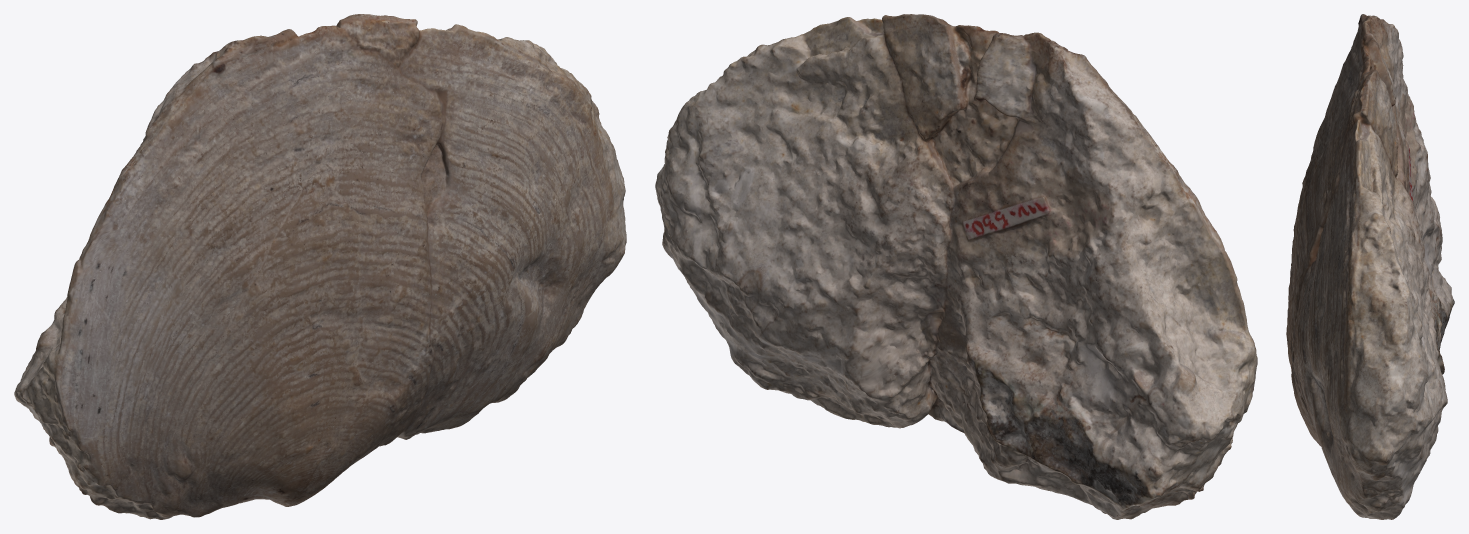
Rendered from EWS0004011.glb.
3 renders of one model, left to right at view 1: azimuth 30°, elevation 25°; view 2: azimuth 150°, elevation 25°; view 3: azimuth 270°, elevation 25°, orthographic. The views are drawn at different scales.
Visible parts, largest first — view 1: input; view 2: input; view 3: input.
Boxes of the visible parts, <box> form: input: <box>14,14,626,519</box>; input: <box>655,14,1257,519</box>; input: <box>1286,14,1454,519</box>.
Bounding box in the file's own units: 0.0696 × 0.0526 × 0.0187.
Materials: 1 (1 with a texture image).
